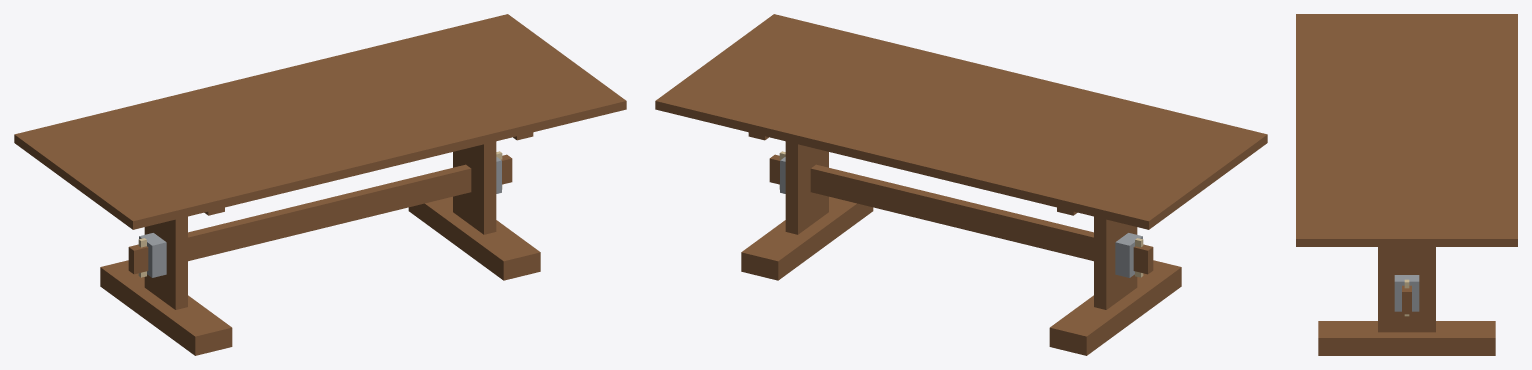
3 renders of one model, left to right at view 1: azimuth 30°, elevation 25°; view 2: azimuth 150°, elevation 25°; view 3: azimuth 270°, elevation 25°, orthographic. The views are drawn at different scales.
Parts seen in each view (by area): view 1: tablero, travesaño, pie_izq, pie_der, montante_der, montante_izq, collar_izq; view 2: tablero, travesaño, pie_izq, pie_der, montante_der, montante_izq, collar_izq; view 3: tablero, pie_der, montante_der, collar_der, travesaño.
Boxes of the visible parts, left/top/right/bottom form: tablero: left=14, top=14, right=626, bottom=229; travesaño: left=128, top=154, right=512, bottom=274; pie_izq: left=100, top=260, right=232, bottom=355; pie_der: left=408, top=196, right=540, bottom=280; montante_der: left=453, top=141, right=496, bottom=234; montante_izq: left=144, top=216, right=187, bottom=309; collar_izq: left=139, top=233, right=166, bottom=277; tablero: left=655, top=14, right=1267, bottom=229; travesaño: left=769, top=154, right=1153, bottom=274; pie_izq: left=1049, top=260, right=1181, bottom=355; pie_der: left=741, top=196, right=873, bottom=280; montante_der: left=785, top=141, right=828, bottom=234; montante_izq: left=1094, top=216, right=1137, bottom=309; collar_izq: left=1115, top=233, right=1142, bottom=277; tablero: left=1296, top=14, right=1517, bottom=246; pie_der: left=1318, top=321, right=1495, bottom=355; montante_der: left=1378, top=247, right=1435, bottom=332; collar_der: left=1394, top=275, right=1419, bottom=311; travesaño: left=1402, top=285, right=1411, bottom=314.
Size of the model in its own units: 2.4 by 0.75 by 1.
